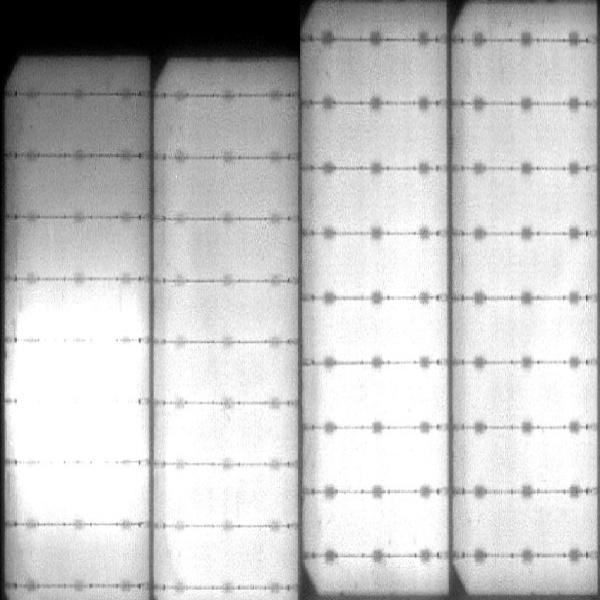hot_spot: (14, 406, 140, 456), (13, 347, 139, 396), (161, 412, 283, 458), (19, 469, 138, 516), (166, 472, 282, 519), (326, 372, 438, 420), (329, 502, 438, 550), (172, 533, 279, 580), (325, 440, 436, 483), (28, 311, 135, 334), (378, 311, 434, 353), (541, 375, 574, 419), (541, 438, 566, 483)
no_electricity: (1, 1, 300, 56)
